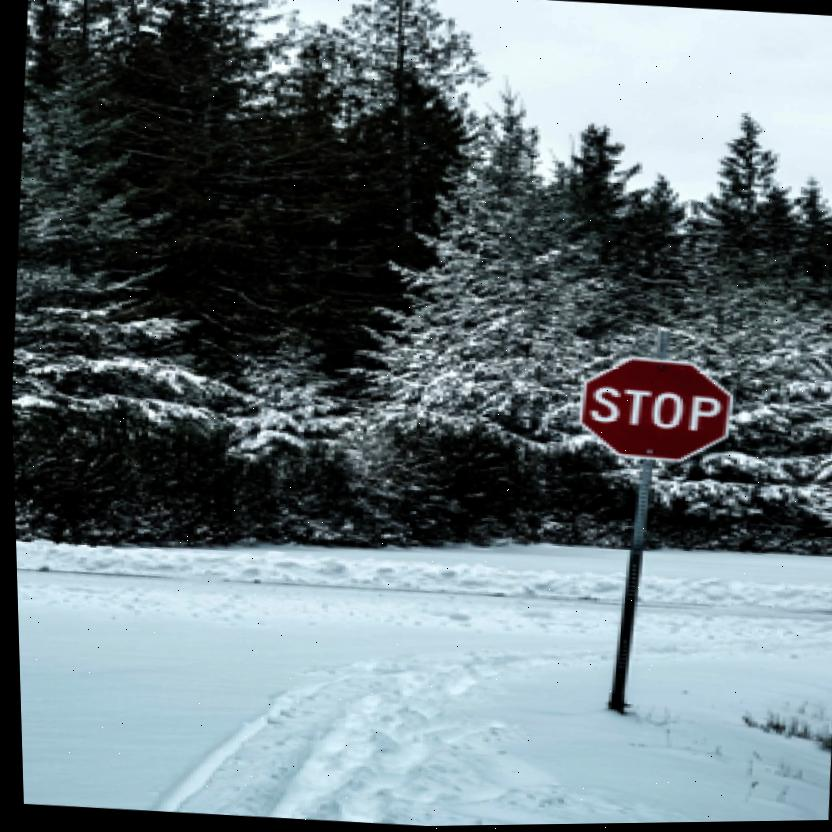Pole: (590, 454, 670, 710)
Sign: (571, 355, 735, 467)
